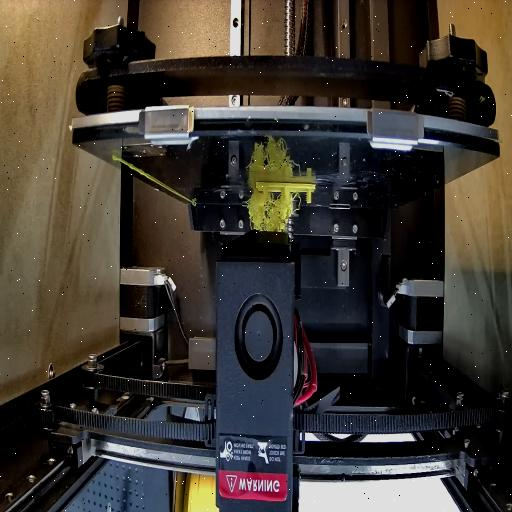spaghetti: (245, 193, 299, 233)
